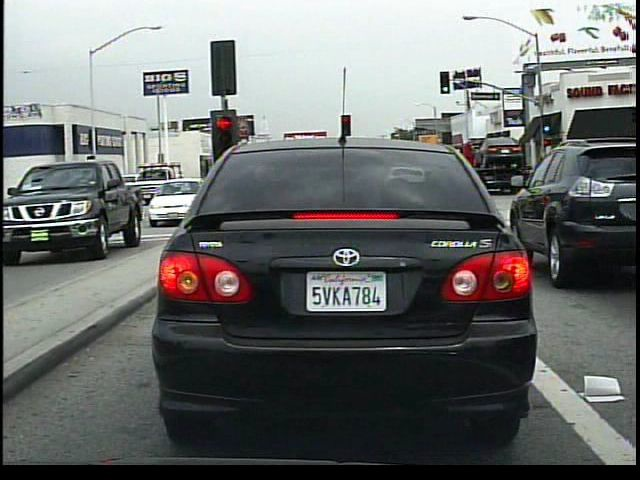person: (173, 168, 194, 193)
